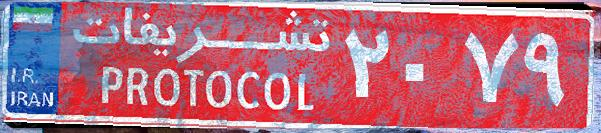0: (400, 20, 460, 115)
2: (340, 20, 400, 115)
7: (460, 20, 520, 115)
9: (520, 20, 580, 115)
تشریفات: (60, 8, 340, 125)
